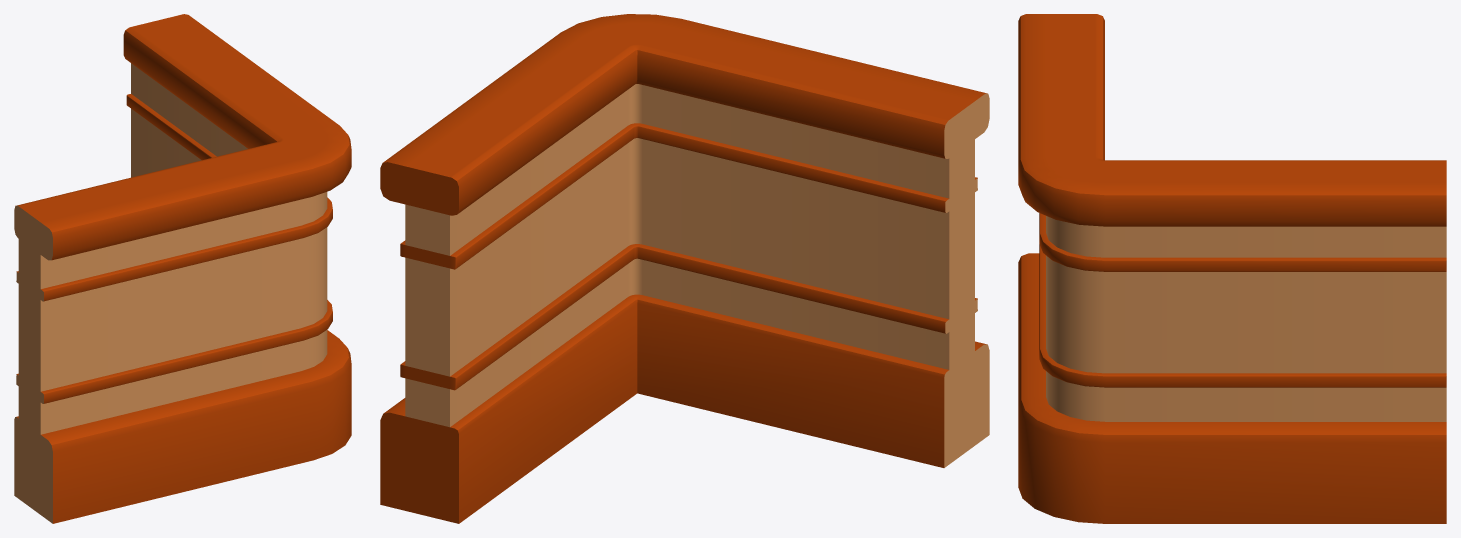
The model's file is New_CornerWalls003.fbx.
3 renders of one model, left to right at view 1: azimuth 30°, elevation 25°; view 2: azimuth 150°, elevation 25°; view 3: azimuth 270°, elevation 25°, orthographic. The views are drawn at different scales.
Parts seen in each view (by area): view 1: Cornerv2; view 2: Cornerv2; view 3: Cornerv2.
Part boxes in pixels (left/top/right/bottom): Cornerv2: left=14, top=14, right=351, bottom=523; Cornerv2: left=380, top=14, right=989, bottom=523; Cornerv2: left=1018, top=14, right=1446, bottom=523.
Bounding box in the file's own units: 312 × 266 × 314.
1 material, 1 textured.
